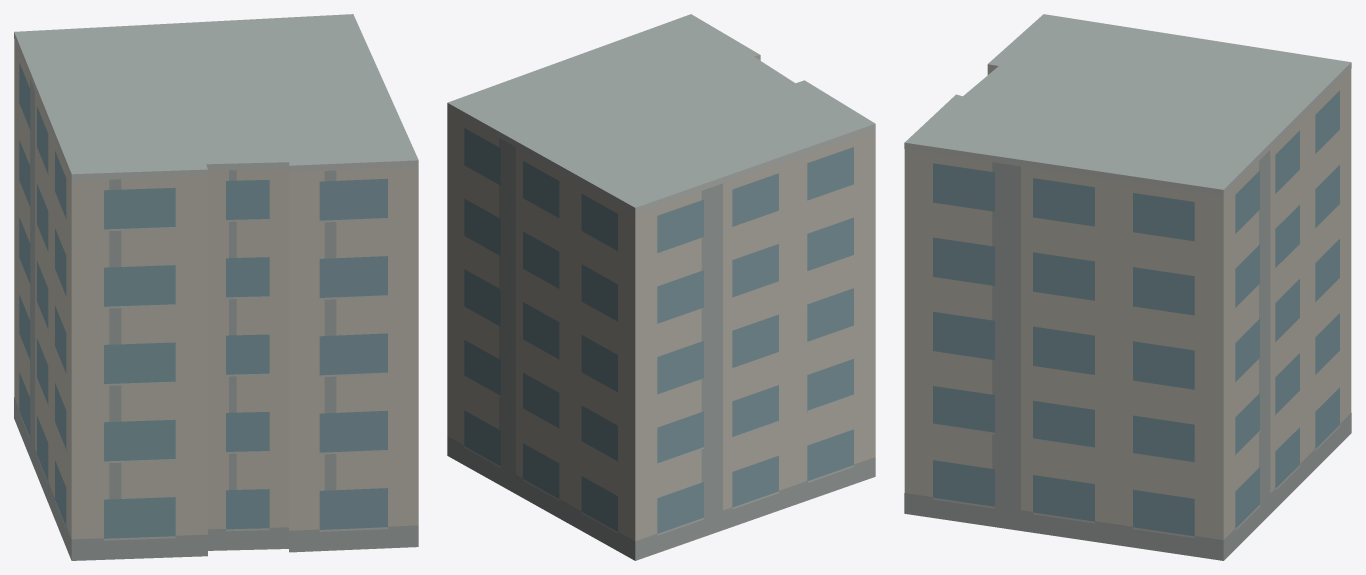
The model's file is survey-upis-32895751.glb.
3 renders of one model, left to right at view 1: azimuth 30°, elevation 25°; view 2: azimuth 150°, elevation 25°; view 3: azimuth 270°, elevation 25°, orthographic. The views are drawn at different scales.
Visible parts, largest first — view 1: survey-upis-32895751.tmp; view 2: survey-upis-32895751.tmp; view 3: survey-upis-32895751.tmp.
Part boxes in pixels (bbox=[...]): survey-upis-32895751.tmp: bbox=[14, 14, 418, 560]; survey-upis-32895751.tmp: bbox=[447, 14, 875, 560]; survey-upis-32895751.tmp: bbox=[904, 14, 1351, 560].
Size of the model in its own units: 14.13 by 13.9 by 15.18.
